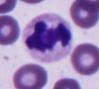N: (23, 12, 73, 63)
